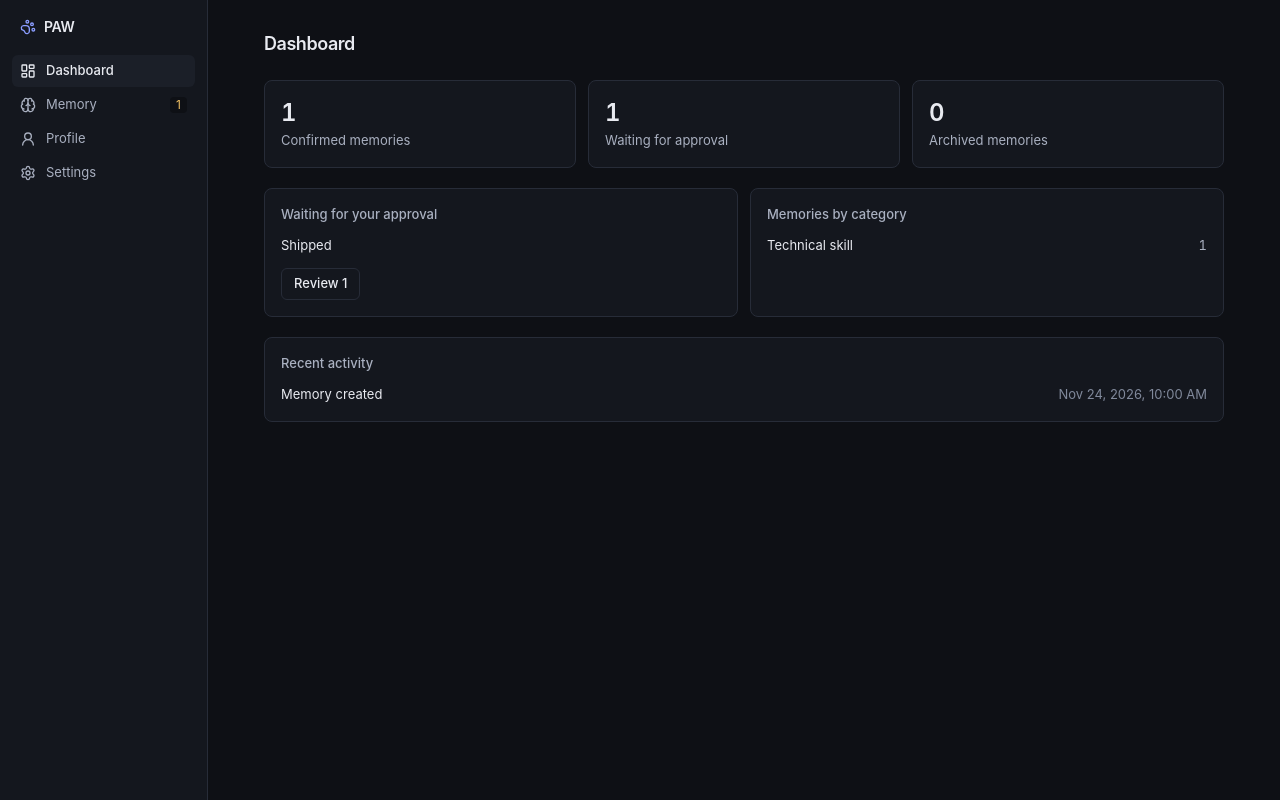
settings › reports export results
Click the button "Settings" at (104, 173), box 12,157 -> 195,189
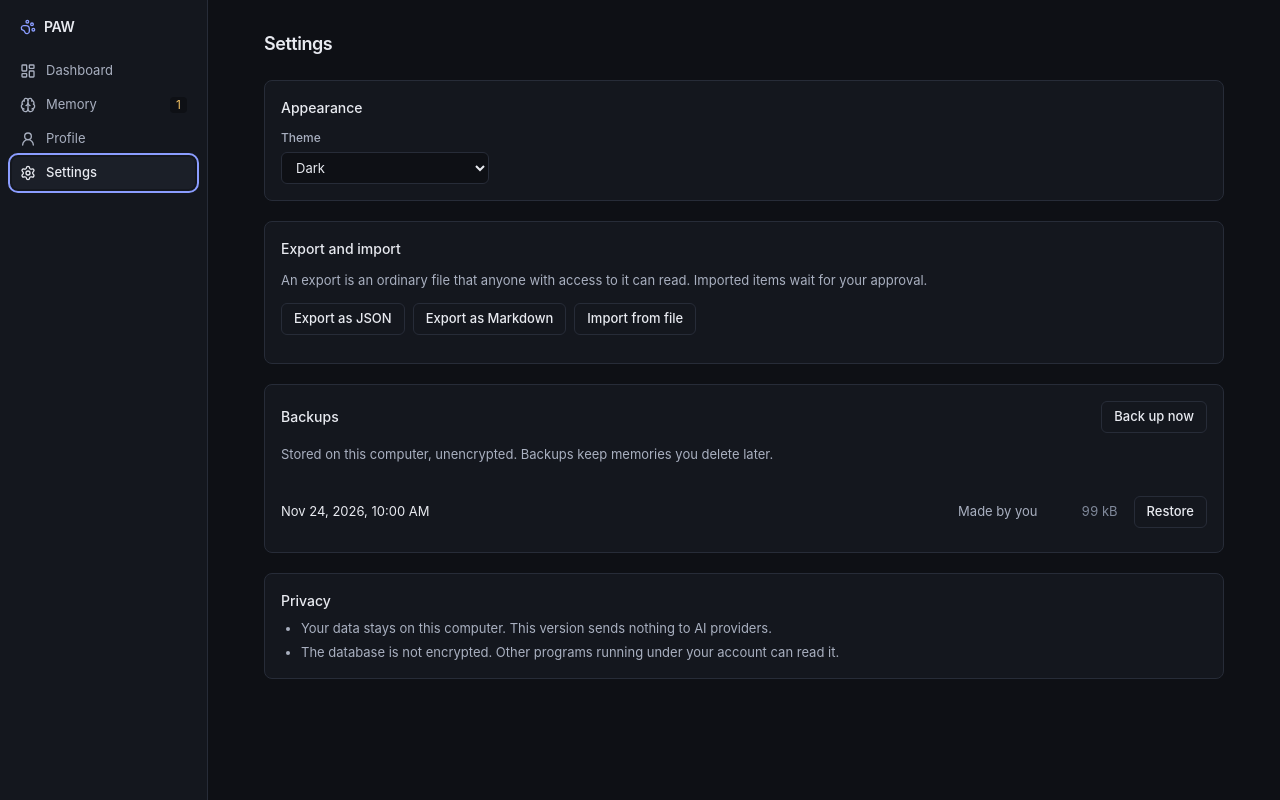
Click the button "Export as JSON" at (343, 318), box 281,302 -> 405,334
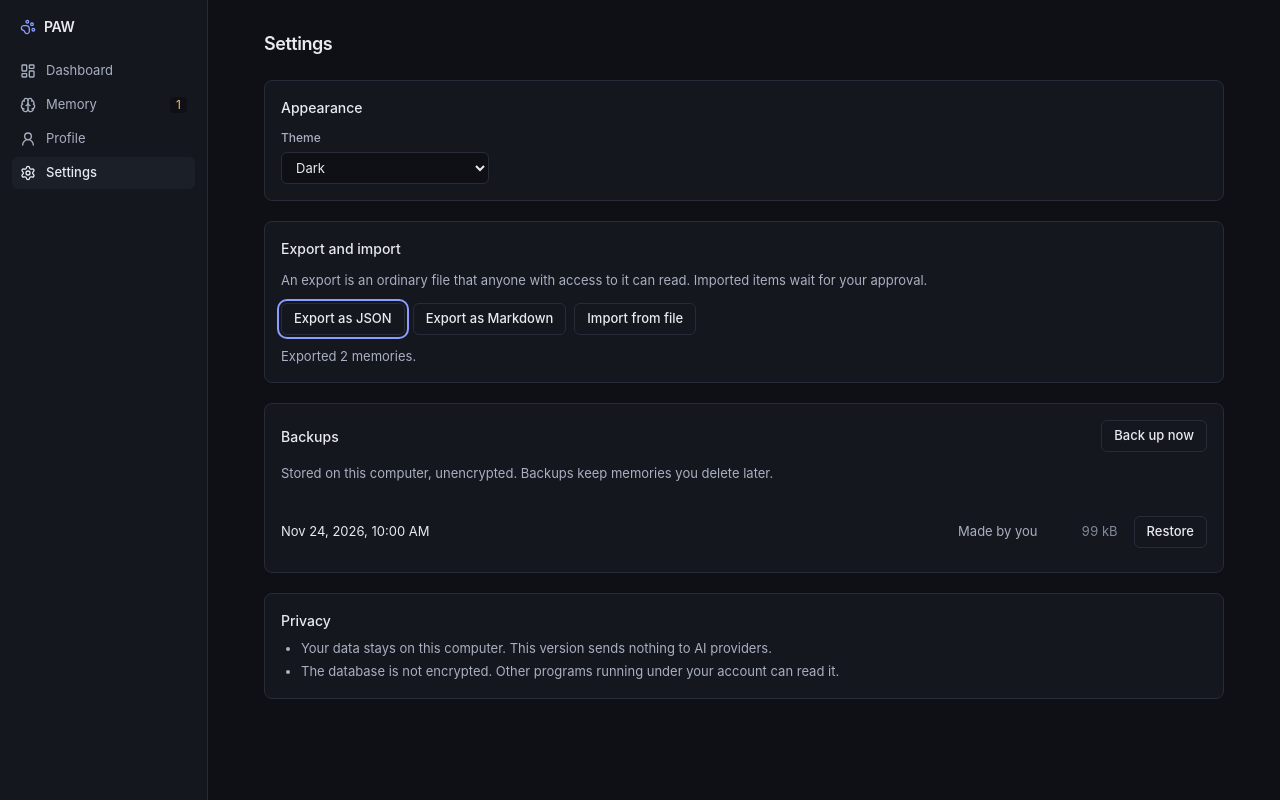
expect the text "Exported 2 memories." is shown: met, box 281,348 -> 416,364
